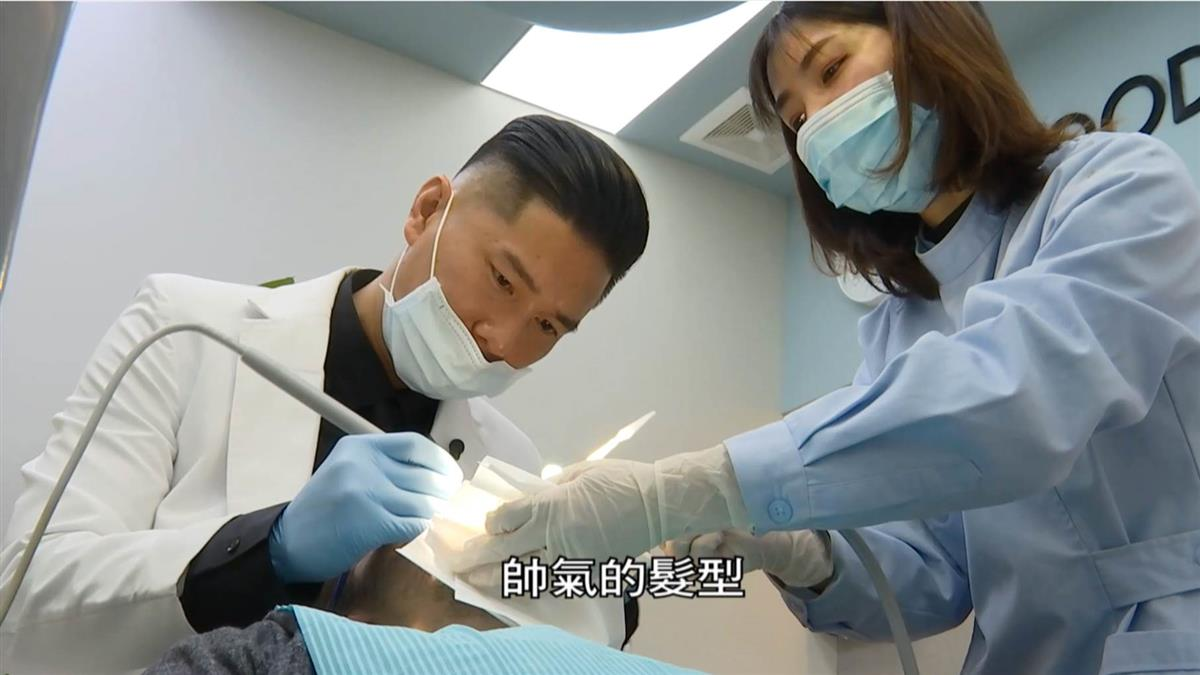mask: (794, 75, 951, 214), (383, 279, 535, 404)
